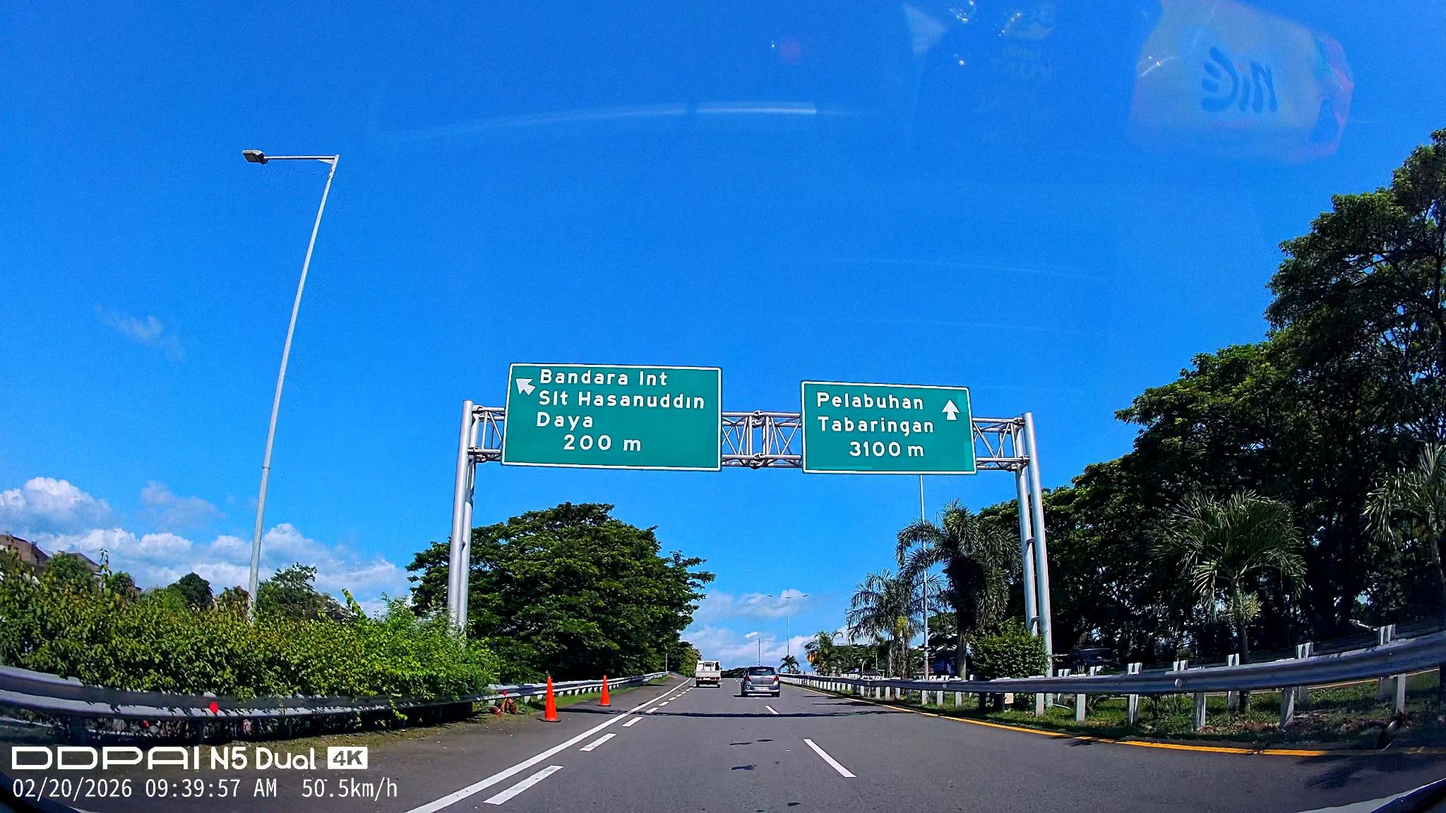rambu_teks: (501, 362, 723, 472), (801, 380, 977, 475)
